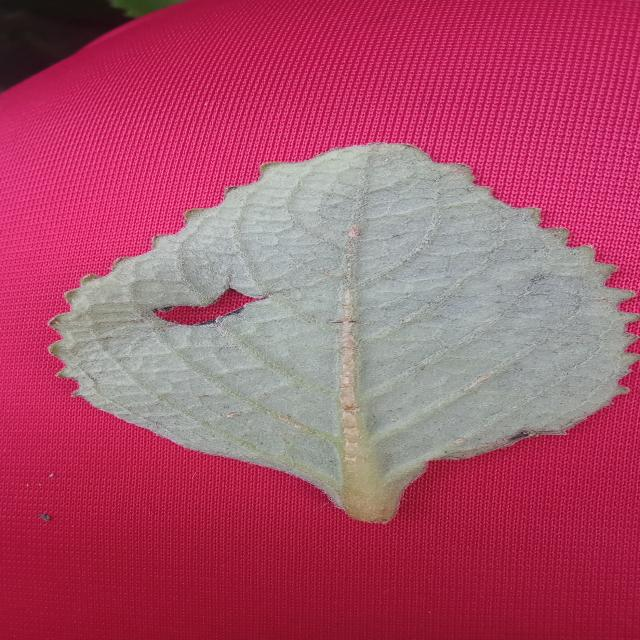Oregano: (49, 130, 640, 536)
